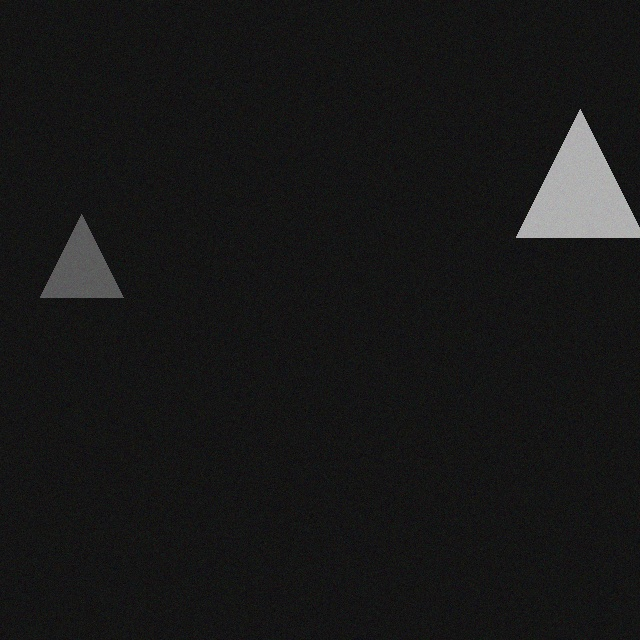triangle: (505, 124, 633, 252), (29, 229, 112, 312)
